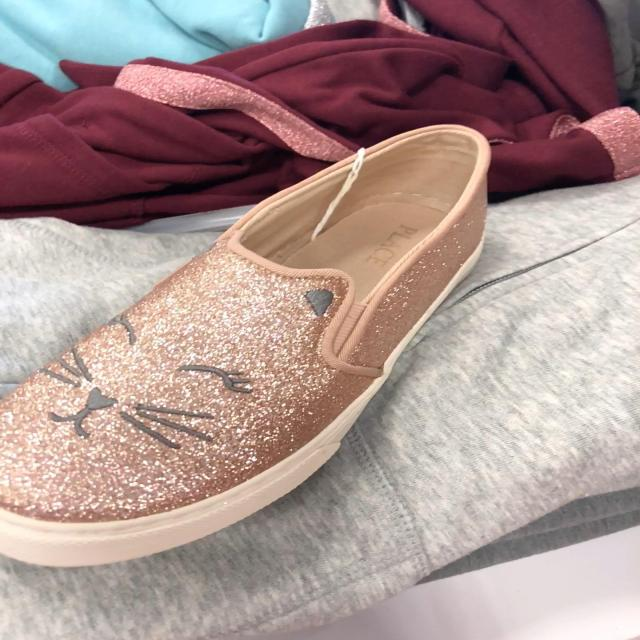shoe: (0, 124, 492, 570)
